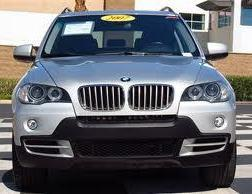front_view: (11, 82, 238, 166)
headlight: (14, 79, 76, 108)
